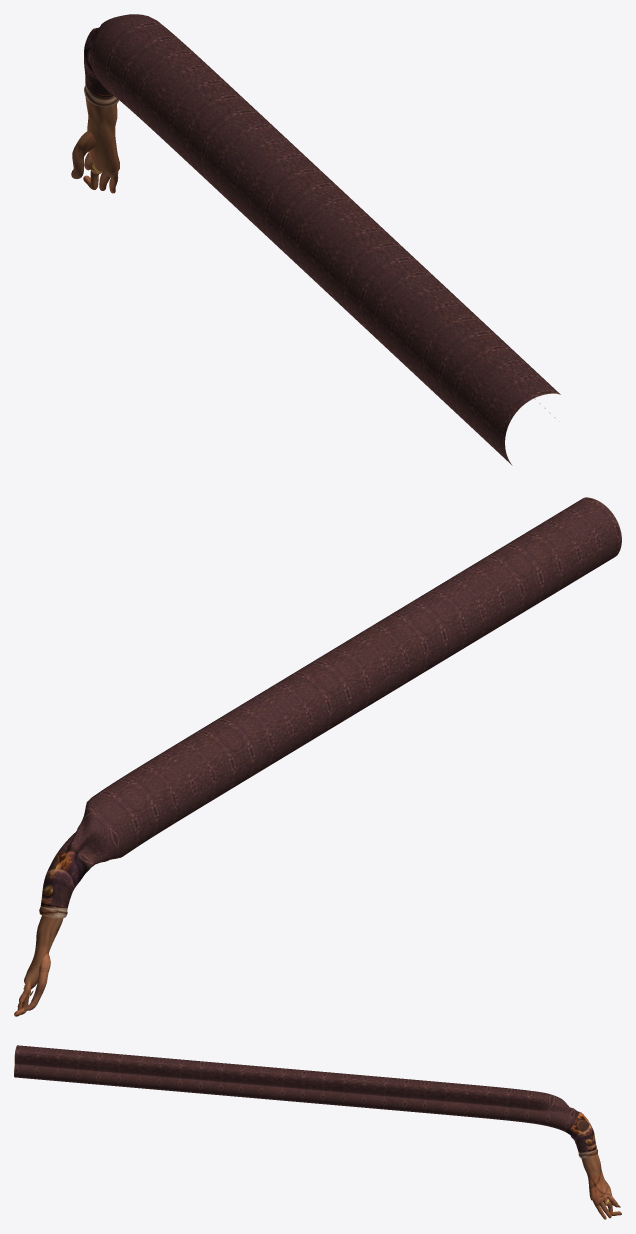
Rendered from mage-grip-v4.glb.
3 views of the same model, one above another, from view 1: azimuth 30°, elevation 25°; view 2: azimuth 150°, elevation 25°; view 3: azimuth 270°, elevation 25° (orthographic). The views are drawn at different scales.
Visible parts, largest first — view 1: mage-card-grip; view 2: mage-card-grip; view 3: mage-card-grip.
Part boxes in pixels (x1,y1,x2,y2): mage-card-grip: (71, 14, 560, 465); mage-card-grip: (14, 497, 621, 1016); mage-card-grip: (14, 1045, 621, 1219).
Bounding box in the file's own units: 0.4853 × 0.6311 × 2.59.
4 materials, 3 textured.
